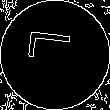L_E: (28, 36, 82, 74)
